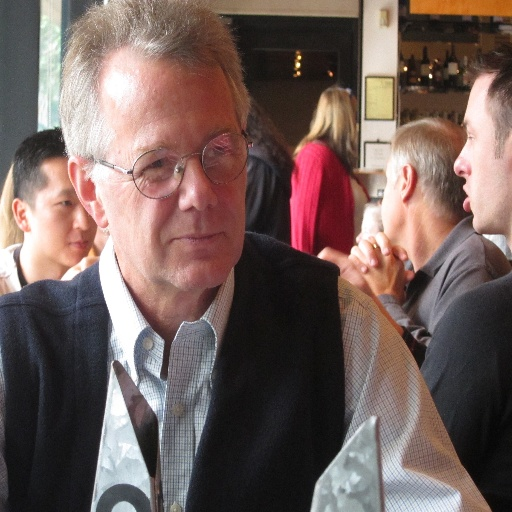hand: (348, 229, 414, 285), (313, 245, 370, 291), (59, 256, 100, 281)
